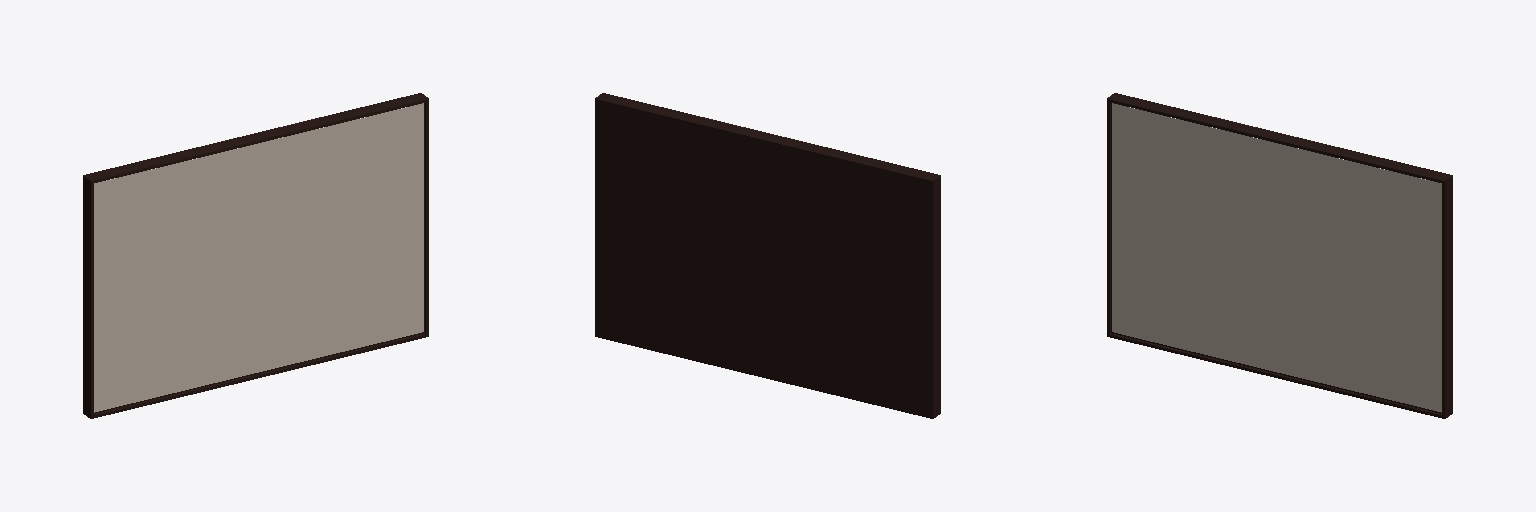
The picture shows the model from 3 angles: view 1: azimuth 30°, elevation 25°; view 2: azimuth 150°, elevation 25°; view 3: azimuth 330°, elevation 25°; orthographic projection.
Parts seen in each view (by area): view 1: Mesh2_Art1_Group_2_1_Model; view 2: Mesh2_Art1_Group_2_1_Model; view 3: Mesh2_Art1_Group_2_1_Model.
Part boxes in pixels (bbox=[...]): Mesh2_Art1_Group_2_1_Model: bbox=[83, 93, 428, 418]; Mesh2_Art1_Group_2_1_Model: bbox=[595, 93, 940, 418]; Mesh2_Art1_Group_2_1_Model: bbox=[1107, 93, 1452, 418].
Size of the model in its own units: 24.79 by 16.67 by 1.04.